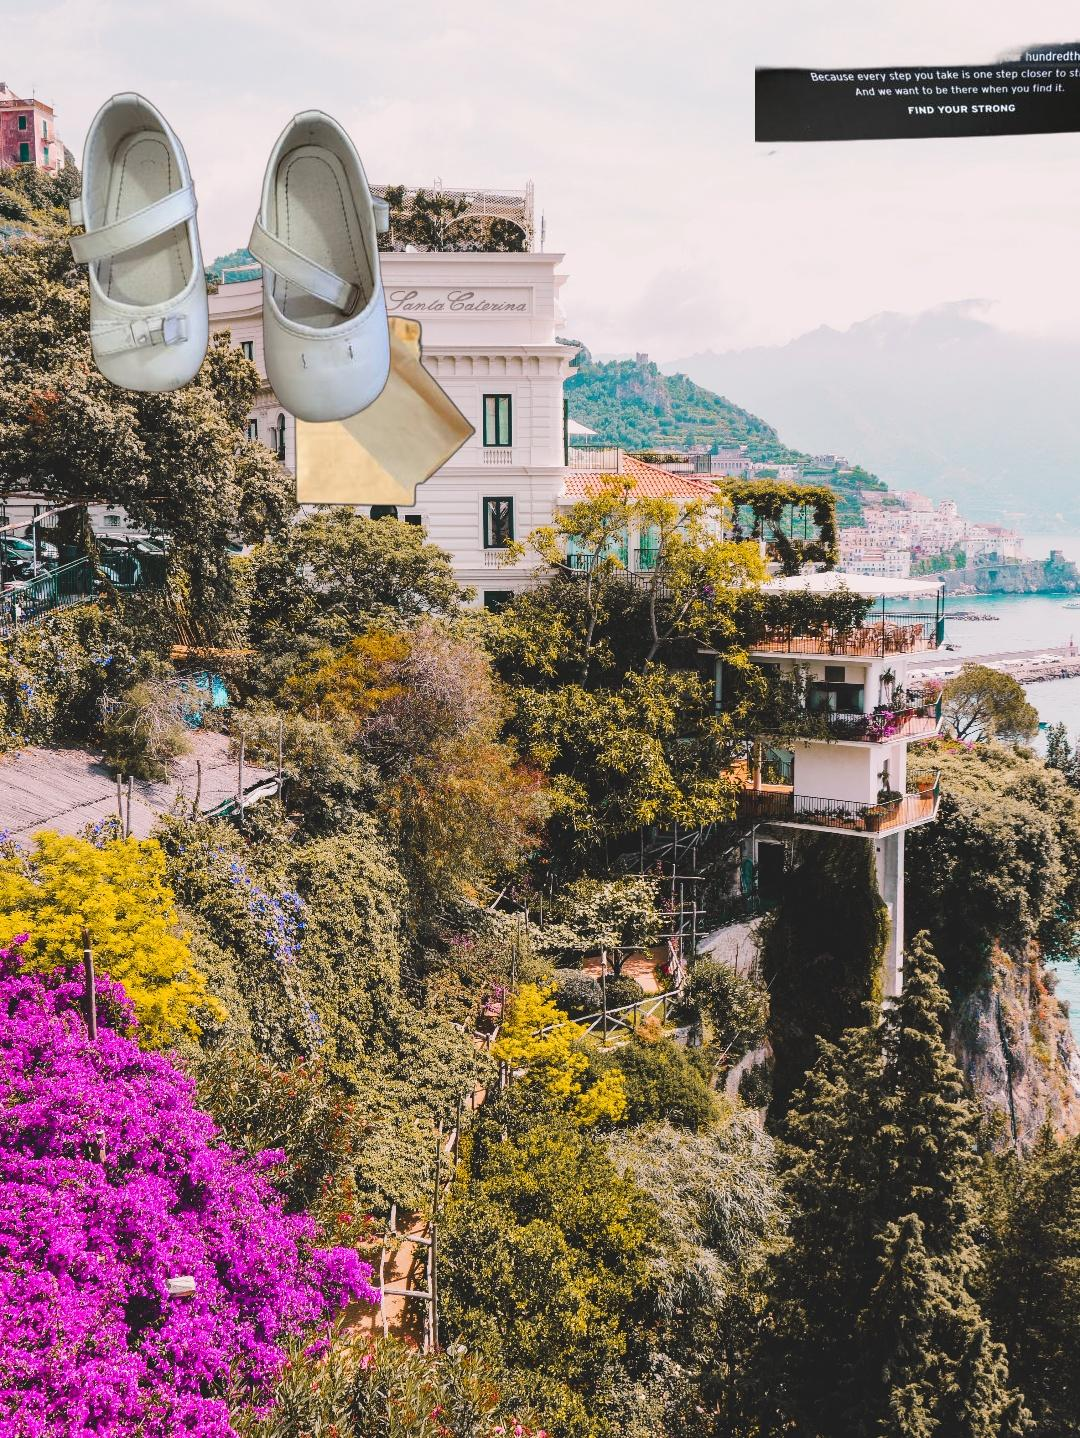paper-bag: (292, 311, 476, 508)
shoes: (65, 5, 445, 539)
trashbox-cardboard: (756, 39, 1080, 157)
